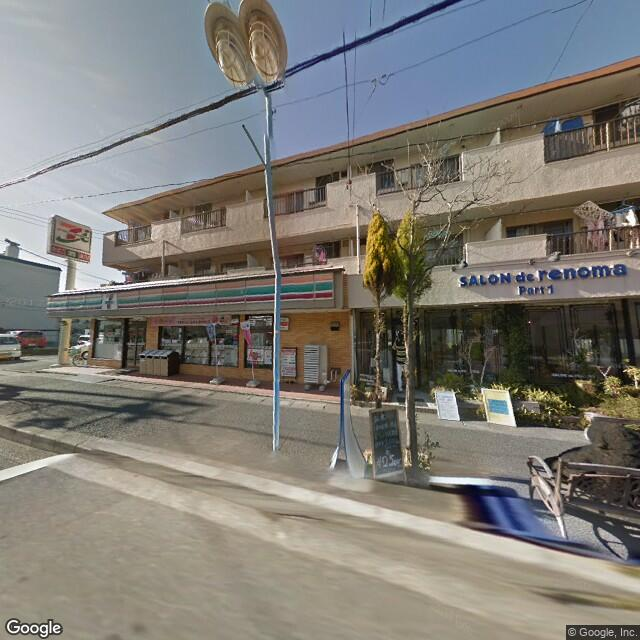7-eleven: (42, 269, 340, 319), (54, 217, 92, 252)
